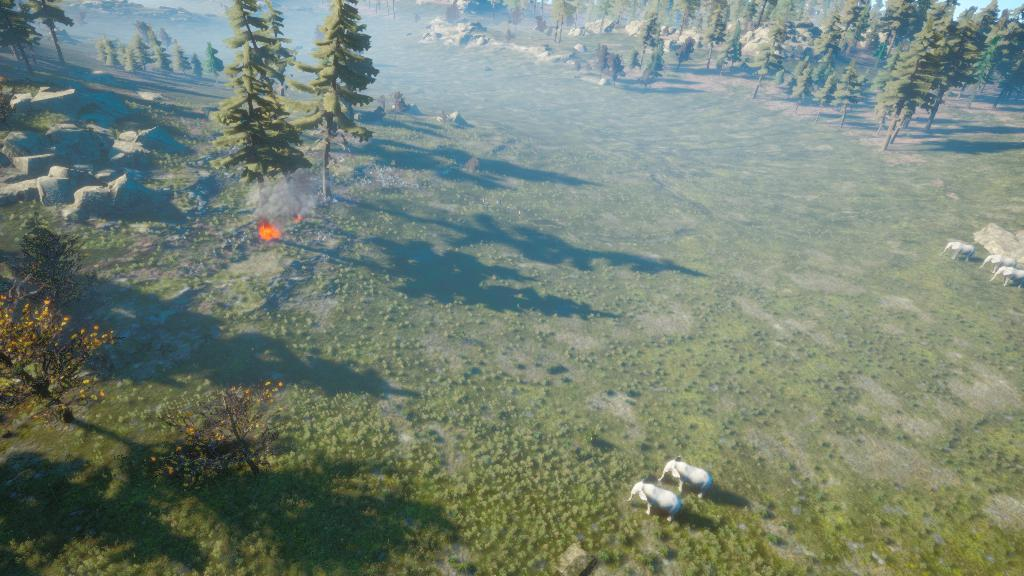elephant: (625, 477, 685, 524), (656, 456, 715, 499), (987, 265, 1023, 292), (977, 253, 1019, 275), (940, 241, 976, 263)
human: (517, 209, 523, 221), (496, 198, 502, 209), (480, 196, 486, 206), (506, 205, 512, 215)
